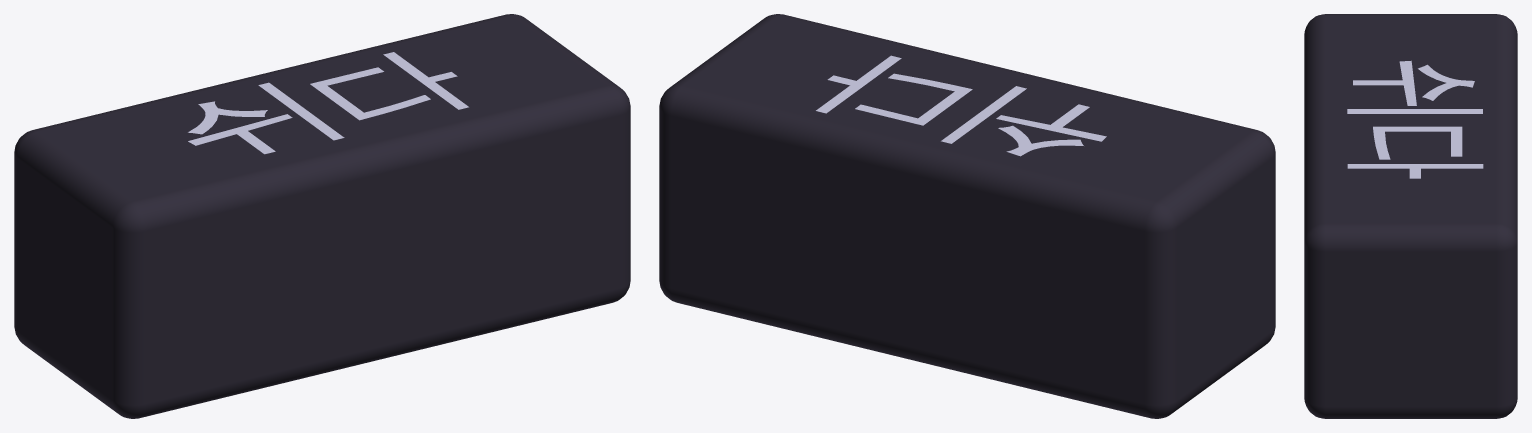
File: rest.glb
3 views of the same model, side by side, from view 1: azimuth 30°, elevation 25°; view 2: azimuth 150°, elevation 25°; view 3: azimuth 270°, elevation 25° (orthographic). The views are drawn at different scales.
Parts seen in each view (by area): view 1: Cut, Extrude; view 2: Cut, Extrude; view 3: Cut, Extrude.
Part boxes in pixels (x1=…): Cut: x1=14, y1=14, x2=630, y2=418; Extrude: x1=188, y1=52, x2=468, y2=154; Cut: x1=659, y1=14, x2=1275, y2=418; Extrude: x1=816, y1=55, x2=1106, y2=156; Cut: x1=1304, y1=14, x2=1517, y2=418; Extrude: x1=1347, y1=60, x2=1483, y2=178.
Bounding box in the file's own units: 5 × 2 × 2.
